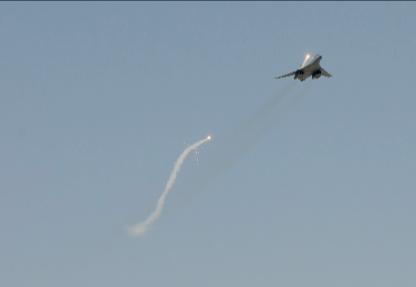AV8B: (274, 53, 332, 80)
